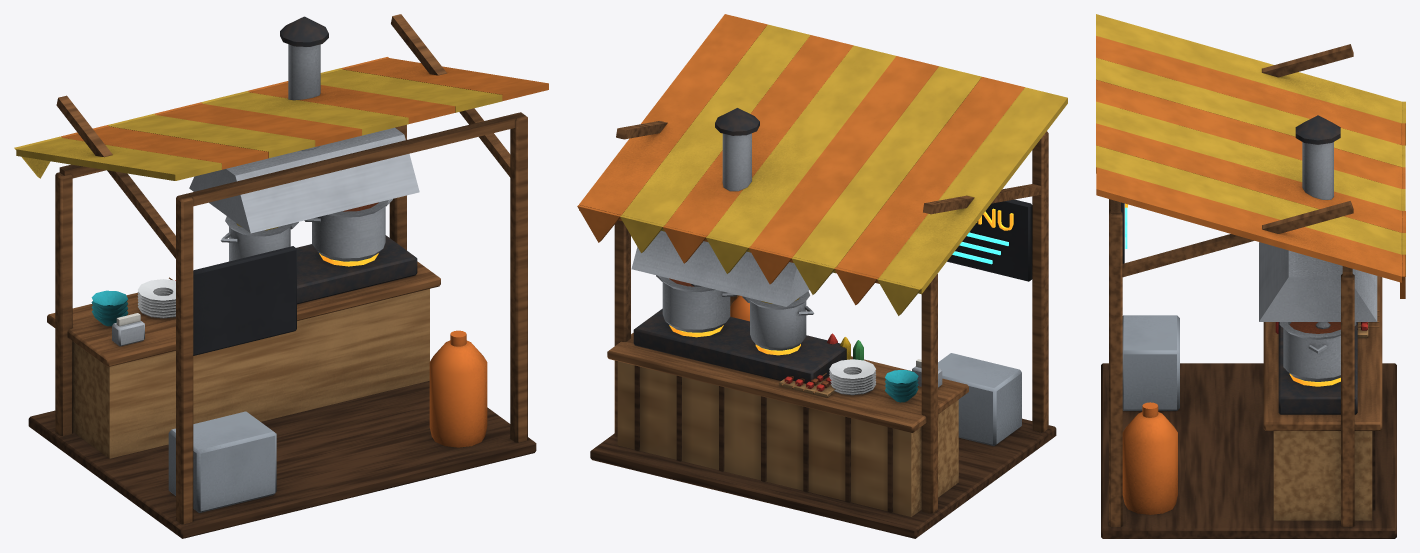
File: puesto_comida.fbx
3 views of the same model, side by side, from view 1: azimuth 30°, elevation 25°; view 2: azimuth 150°, elevation 25°; view 3: azimuth 270°, elevation 25° (orthographic). The views are drawn at different scales.
Parts seen in each view (by area): view 1: puesto_comida; view 2: puesto_comida, puesto_comida_naranja_neon, puesto_comida_neon; view 3: puesto_comida.
Boxes of the visible parts, x1,y1,x2,y2 form: puesto_comida: [14, 14, 548, 538]; puesto_comida: [577, 14, 1067, 538]; puesto_comida_naranja_neon: [669, 208, 1013, 355]; puesto_comida_neon: [952, 232, 1008, 264]; puesto_comida: [1096, 14, 1405, 538].
Bounding box in the file's own units: 4.2 × 4.12 × 3.14.
Materials: 2 (2 with a texture image).
